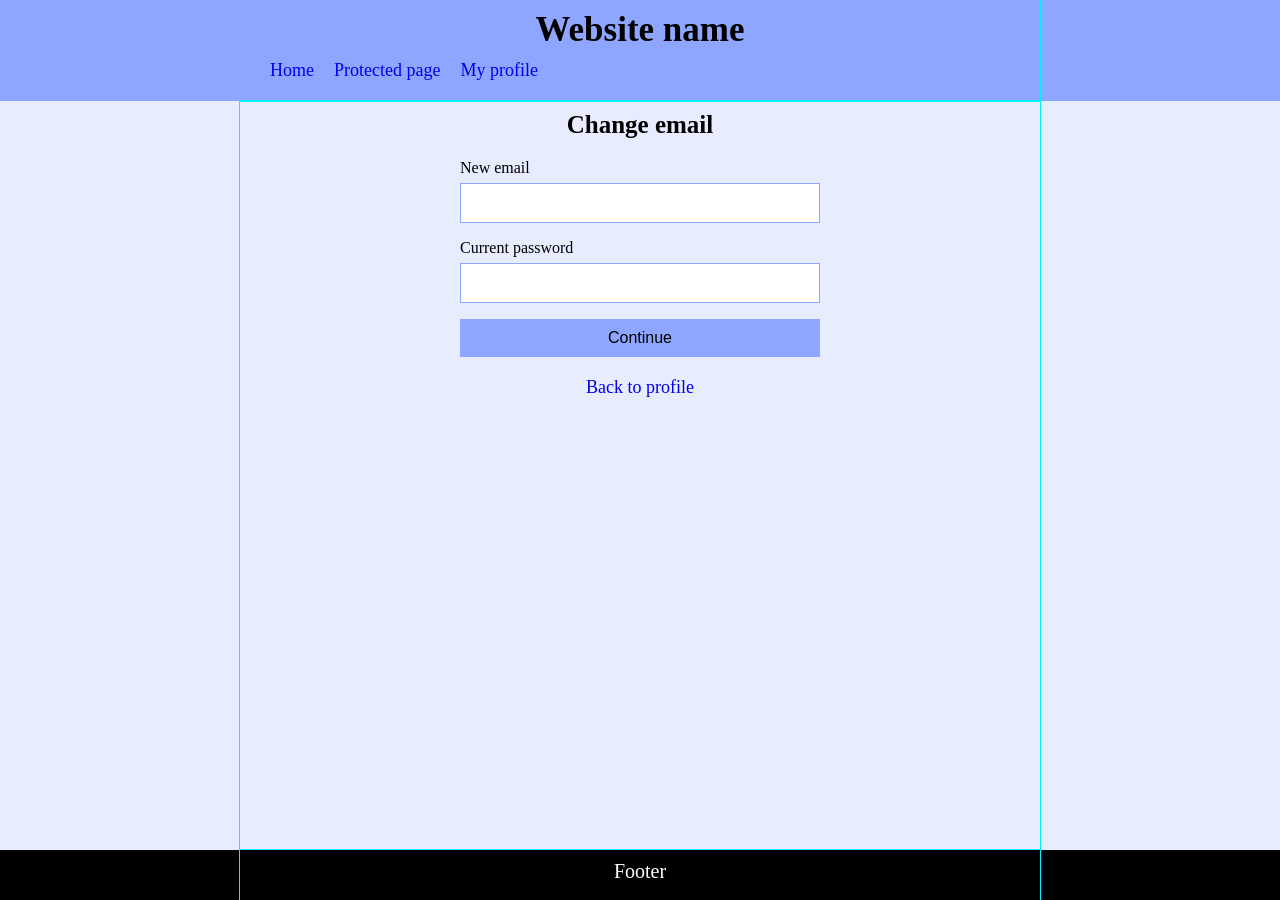
Test: email change preserves auth, including invalid code: false
Type "new@example.com" into the field labelled "New email" at coordinates (640, 203), box left=460, top=183, right=820, bottom=223
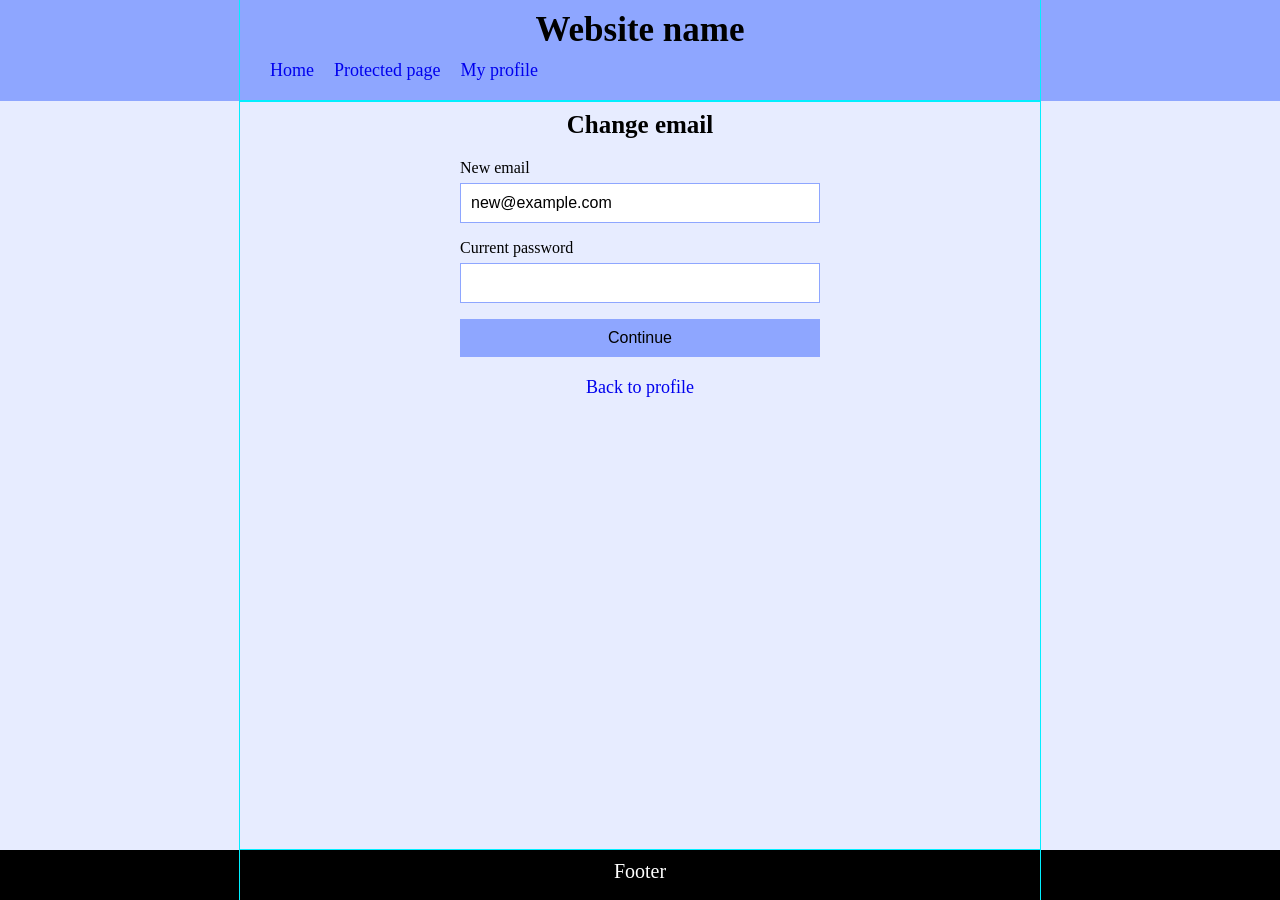
Type "password12345" into the password field labelled "Current password" at coordinates (640, 283), box left=460, top=263, right=820, bottom=303
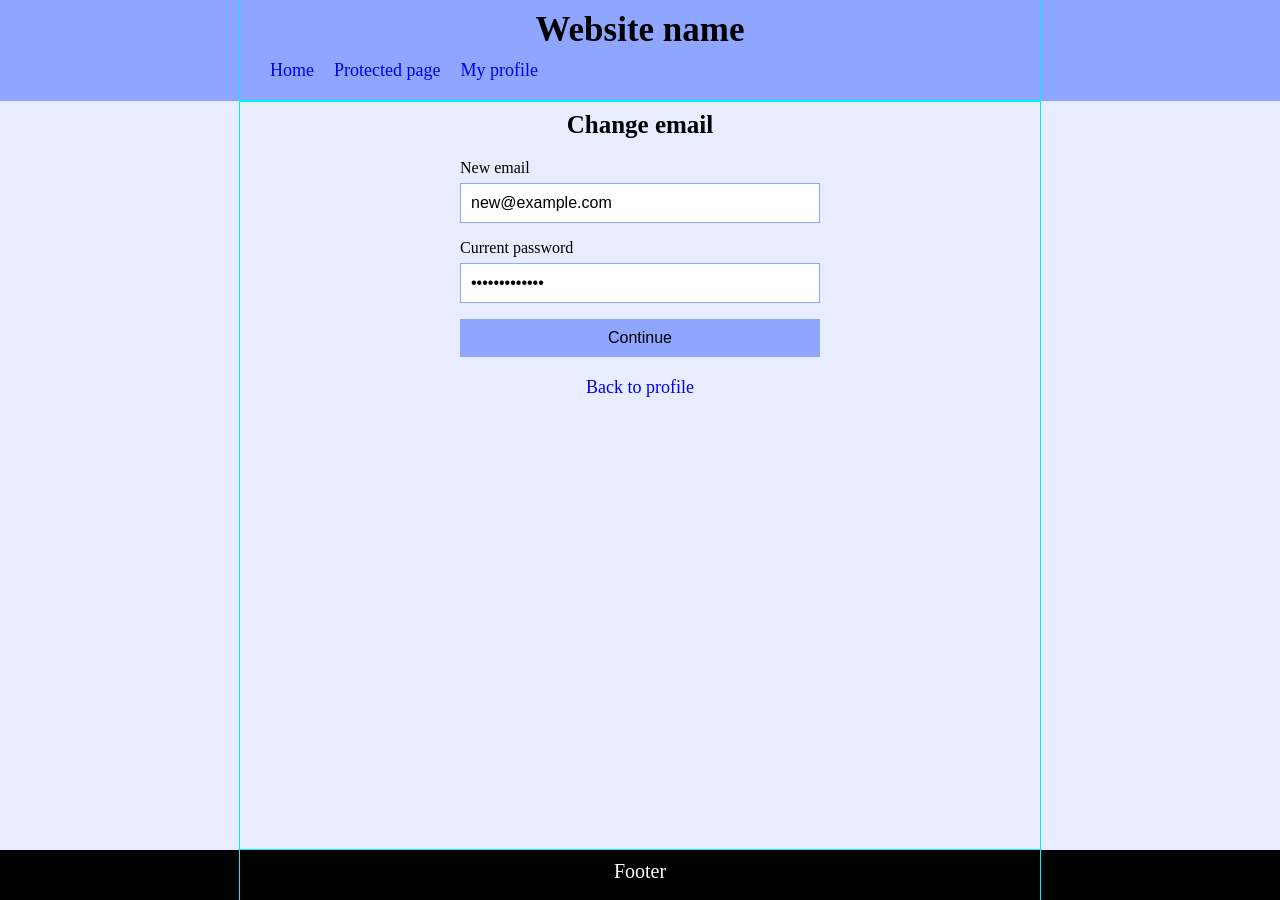
Submit the form, box left=460, top=159, right=820, bottom=357
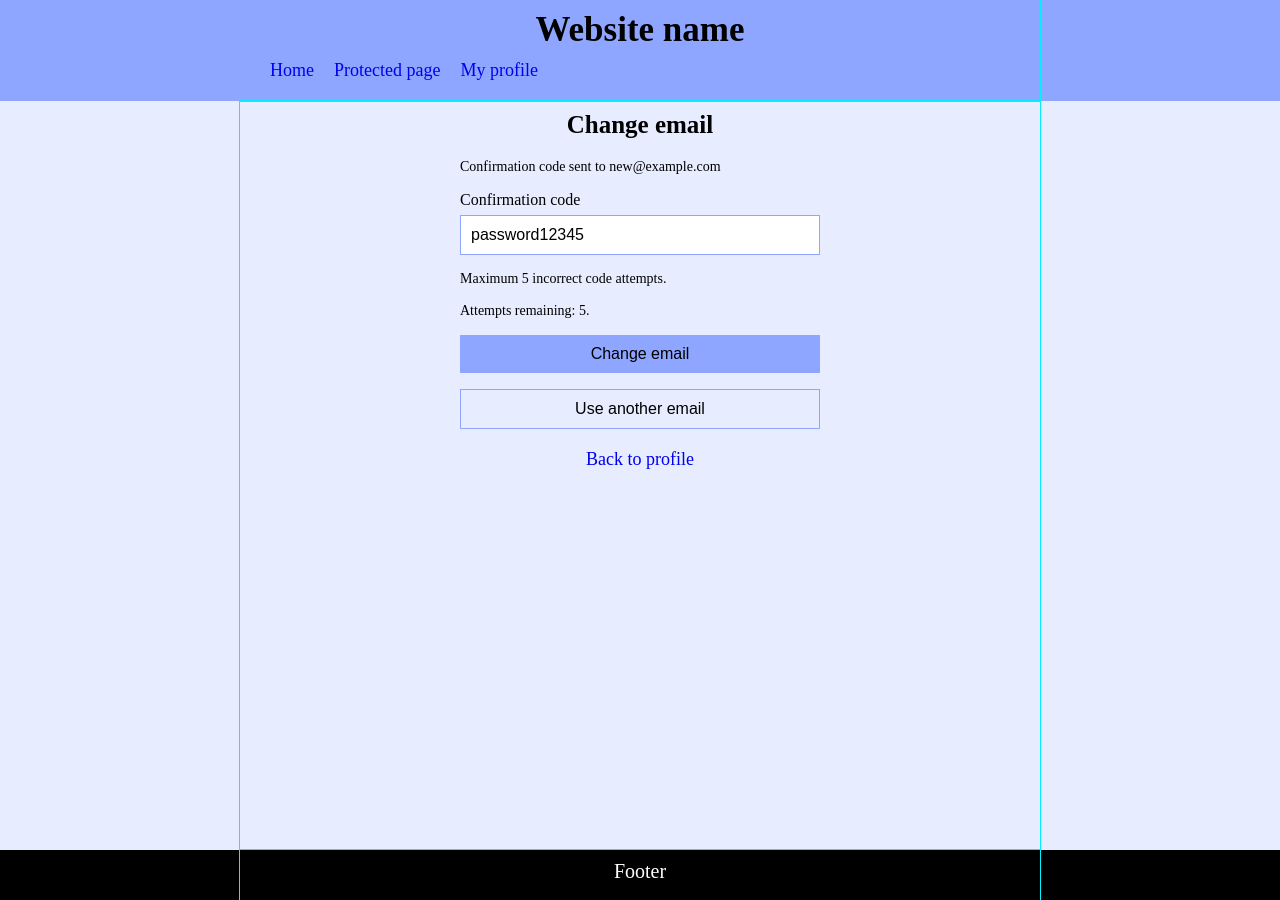
Replace the text in the field labelled "Confirmation code" with "123456" at coordinates (640, 235), box left=460, top=215, right=820, bottom=255
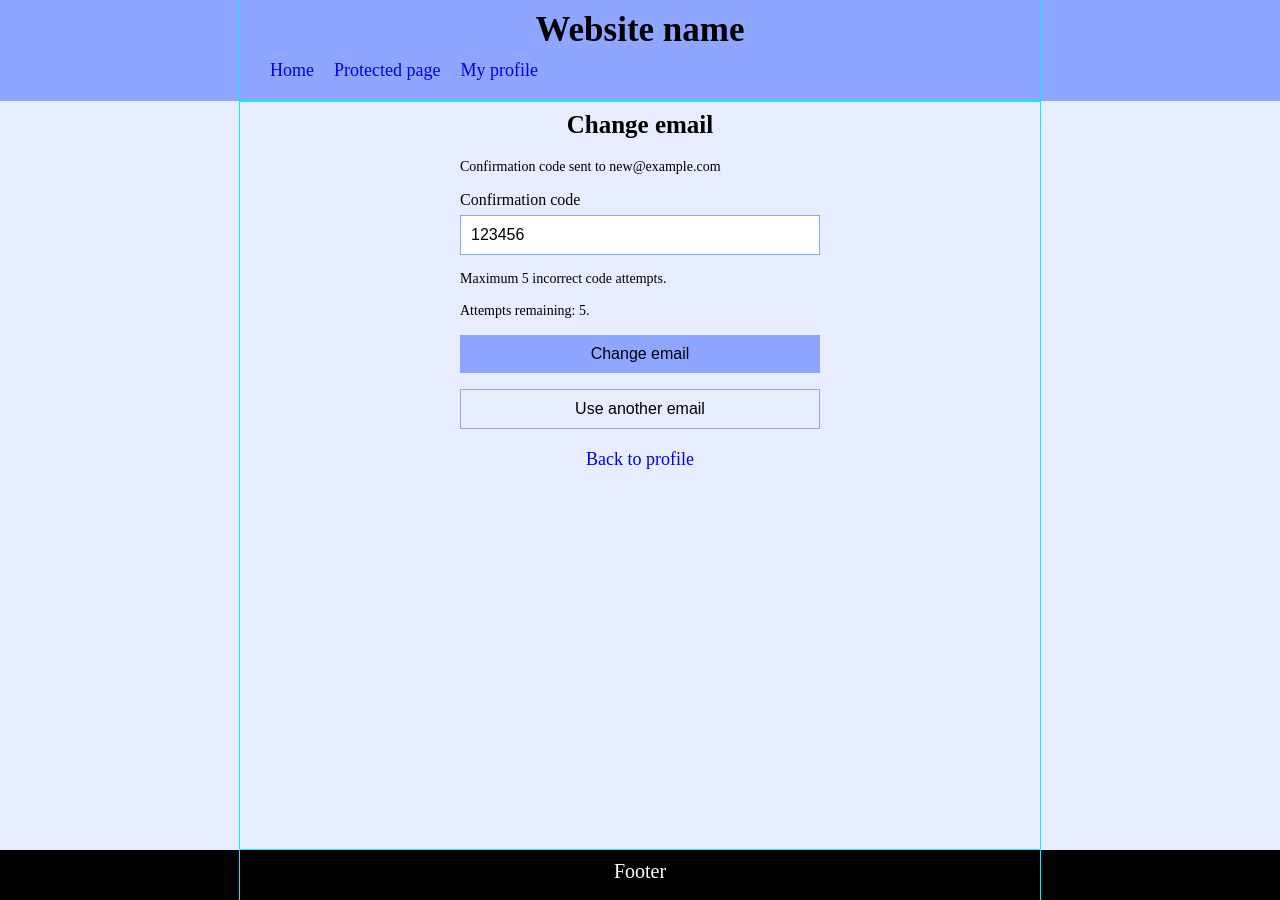
Submit the form, box left=460, top=159, right=820, bottom=429
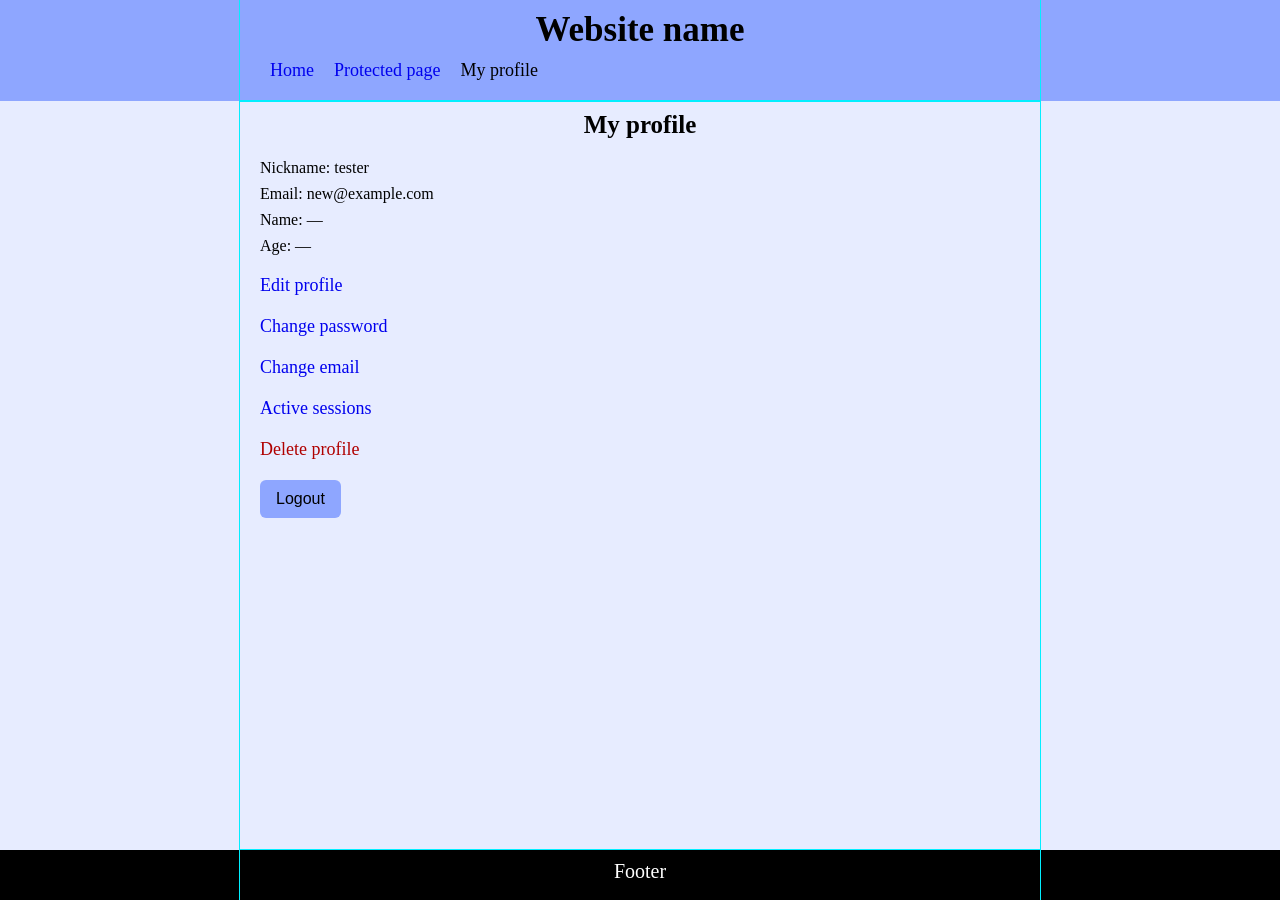
Now the heading "My profile" is shown, box left=584, top=111, right=696, bottom=138
Now the text "Email: new@example.com" is shown, box left=260, top=185, right=434, bottom=202
